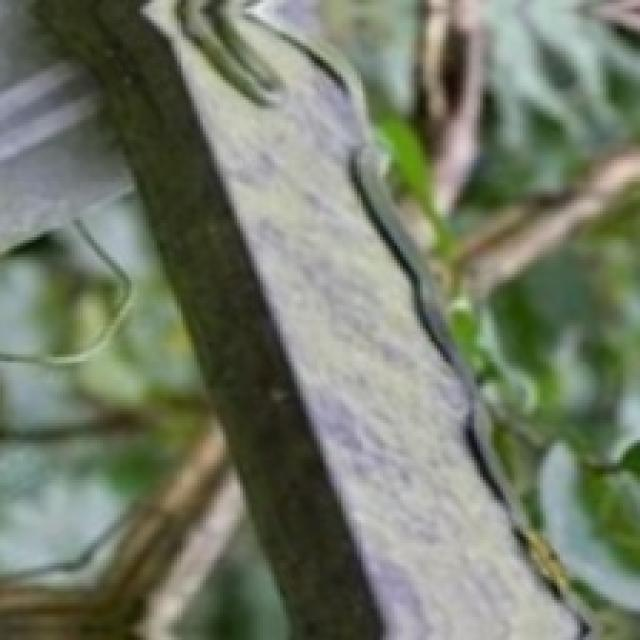paradise tree snake: (37, 0, 577, 637)
